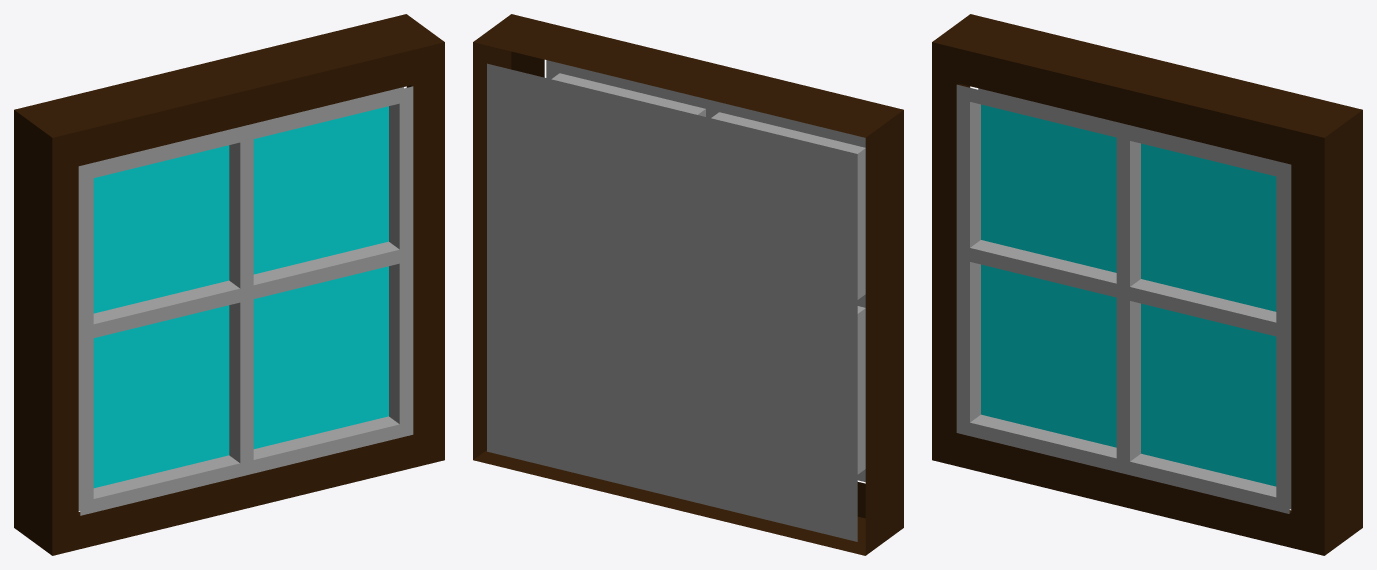
Rendered from window_06.fbx.
3 views of the same model, side by side, from view 1: azimuth 30°, elevation 25°; view 2: azimuth 150°, elevation 25°; view 3: azimuth 330°, elevation 25° (orthographic).
Parts seen in each view (by area): view 1: Window, WindowFrame, backwindow; view 2: backwindow, WindowFrame, Window; view 3: Window, WindowFrame, backwindow.
Boxes of the visible parts, <box> form: Window: <box>80,86,413,515</box>; WindowFrame: <box>14,14,444,555</box>; backwindow: <box>78,87,403,510</box>; backwindow: <box>487,63,857,541</box>; WindowFrame: <box>473,14,903,555</box>; Window: <box>546,60,865,481</box>; Window: <box>956,84,1289,513</box>; WindowFrame: <box>932,14,1362,555</box>; backwindow: <box>978,88,1291,509</box>.
Bounding box in the file's own units: 97.49 × 99.24 × 17.19.
